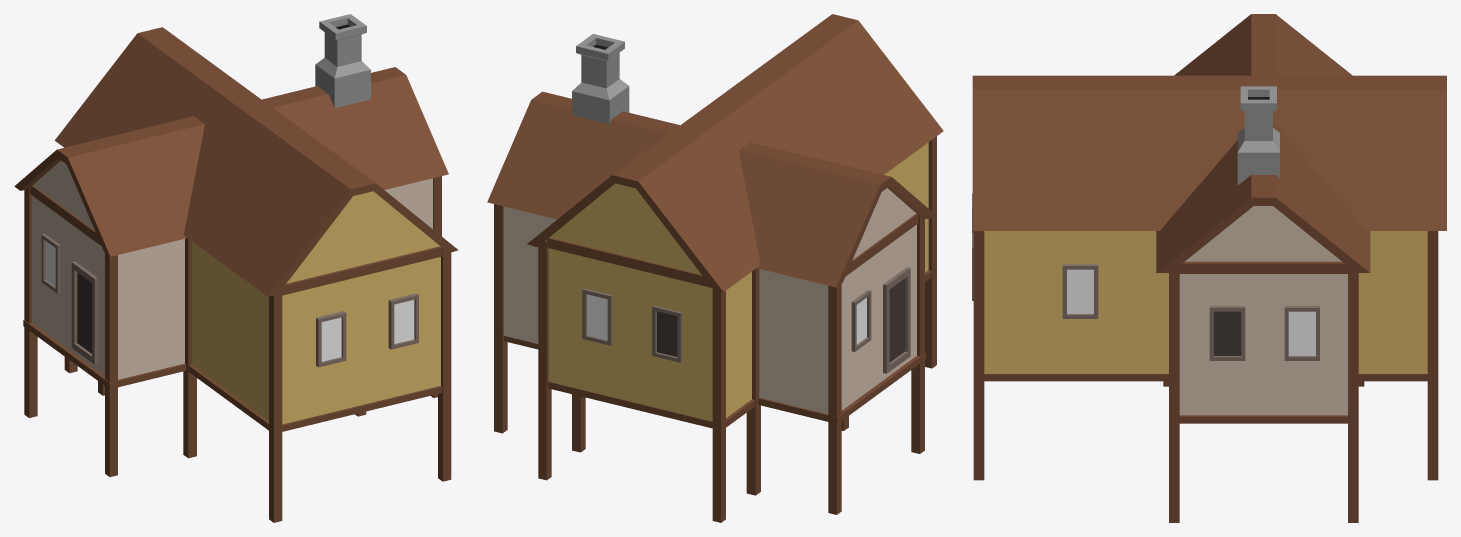
The model's file is M_House_Building_0.fbx.
3 views of the same model, side by side, from view 1: azimuth 30°, elevation 25°; view 2: azimuth 150°, elevation 25°; view 3: azimuth 270°, elevation 25° (orthographic). The views are drawn at different scales.
Visible parts, largest first — view 1: M_House_Building_0; view 2: M_House_Building_0; view 3: M_House_Building_0.
Boxes of the visible parts, x1,y1,x2,y2 form: M_House_Building_0: (14, 14, 458, 522); M_House_Building_0: (487, 14, 943, 522); M_House_Building_0: (972, 14, 1446, 522).
Size of the model in its own units: 792 by 798 by 866.
